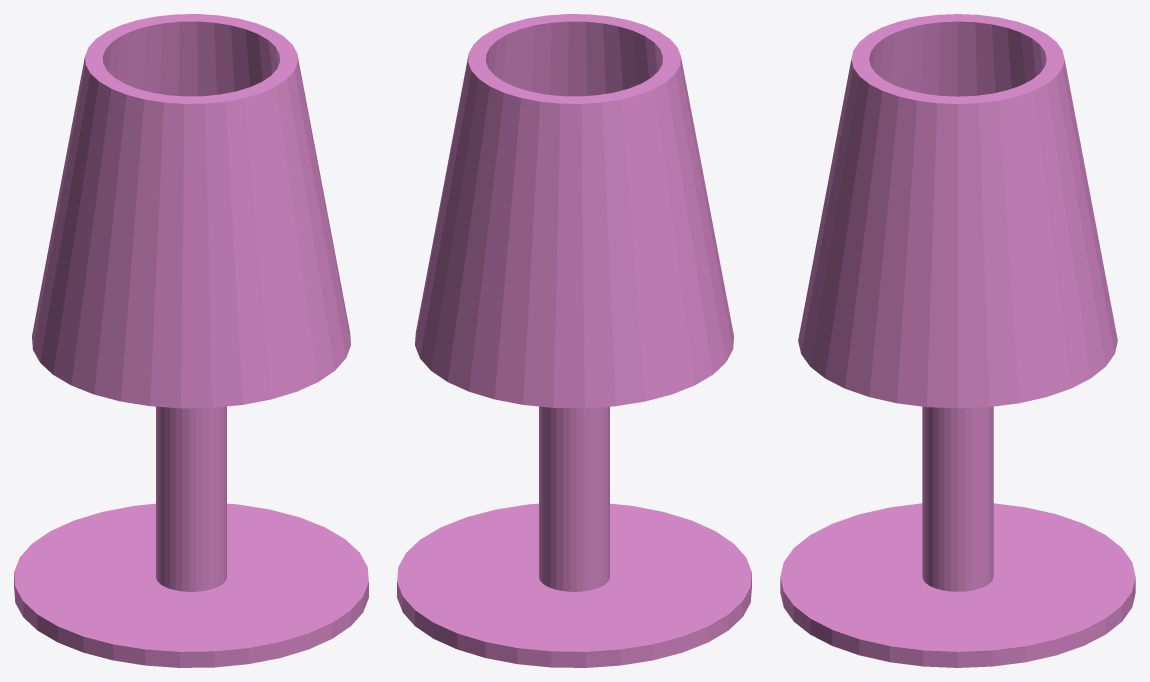
The model's file is LamparaMesita.fbx.
The picture shows the model from 3 angles, left to right: view 1: azimuth 30°, elevation 25°; view 2: azimuth 150°, elevation 25°; view 3: azimuth 270°, elevation 25°; orthographic projection.
Visible parts, largest first — view 1: Lámpara; view 2: Lámpara; view 3: Lámpara.
Part boxes in pixels (left/top/right/bottom): Lámpara: left=14, top=14, right=368, bottom=667; Lámpara: left=397, top=14, right=751, bottom=667; Lámpara: left=780, top=14, right=1135, bottom=667.
Bounding box in the file's own units: 200 × 332 × 200.
